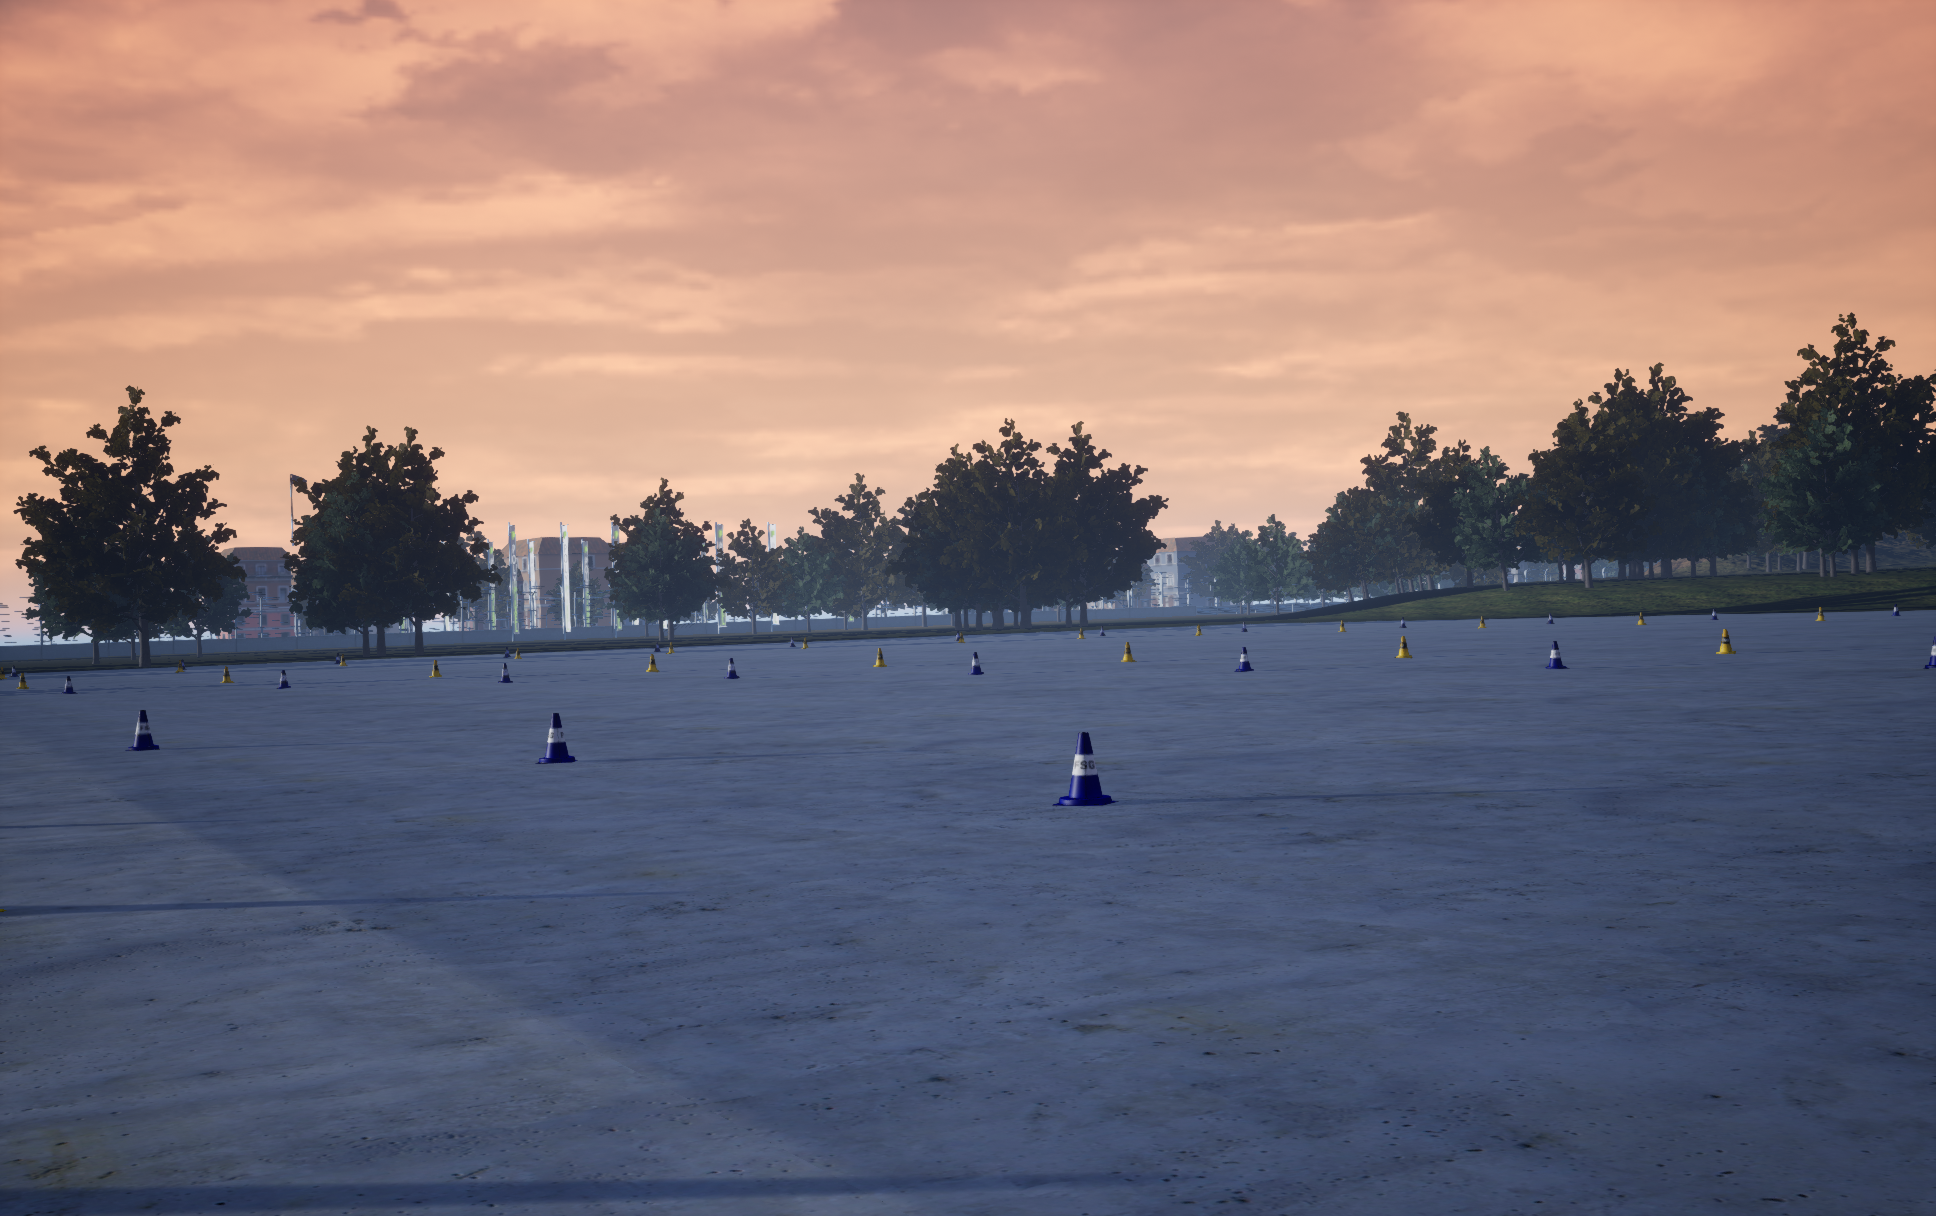blue: (1716, 629, 1736, 653), (1394, 636, 1412, 657), (1121, 642, 1136, 661), (873, 649, 885, 665)
yellow: (1052, 733, 1118, 806), (535, 713, 577, 764), (125, 710, 160, 749), (1545, 642, 1569, 668), (1234, 647, 1252, 671), (1923, 636, 1935, 668), (968, 651, 983, 674), (724, 658, 740, 678), (497, 663, 511, 682), (276, 670, 290, 688)
